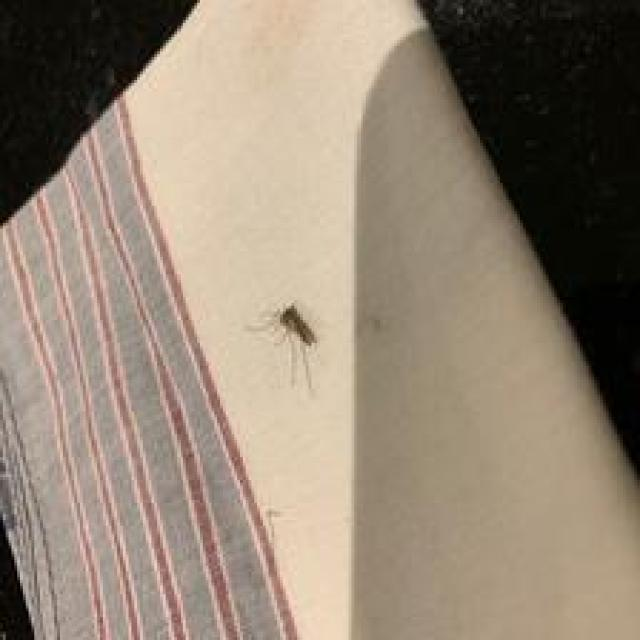Culex: (246, 301, 320, 390)
